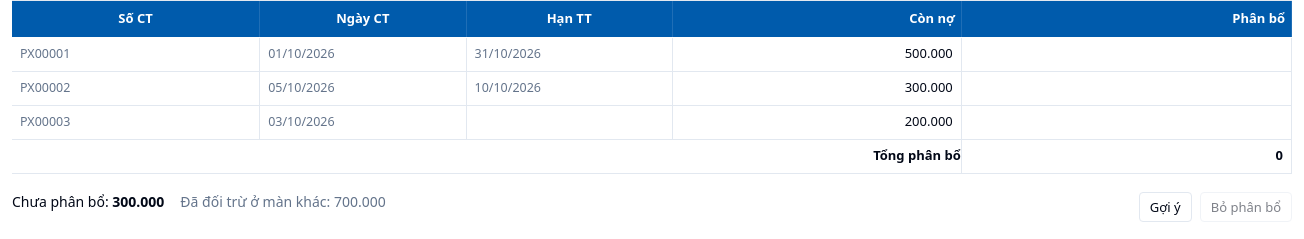
AllocationGrid › other settled reduces the capacity
The width and height of the screenshot is (1304, 239).
Expected: the text "Đã đối trừ ở màn khác: 700.000" is shown, left=180, top=192, right=386, bottom=212
Expected: the text with test id "allocation-remaining" reads "300.000", left=112, top=192, right=164, bottom=210
Click the button "Gợi ý": (1165, 206) left=1139, top=192, right=1192, bottom=222
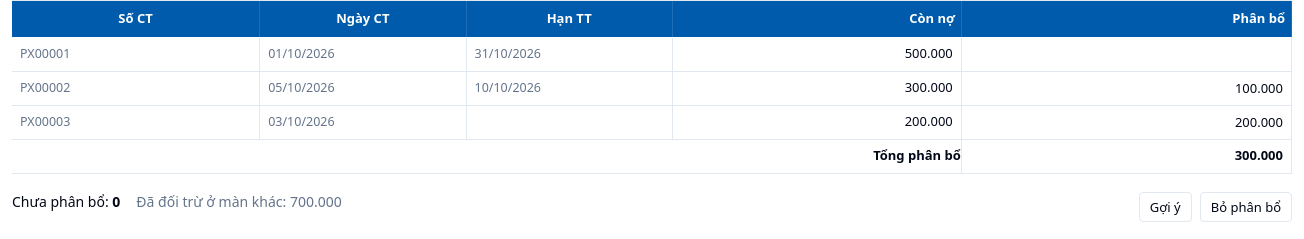
Result: the text with test id "allocation-remaining" reads "0" at left=112, top=192, right=120, bottom=210
